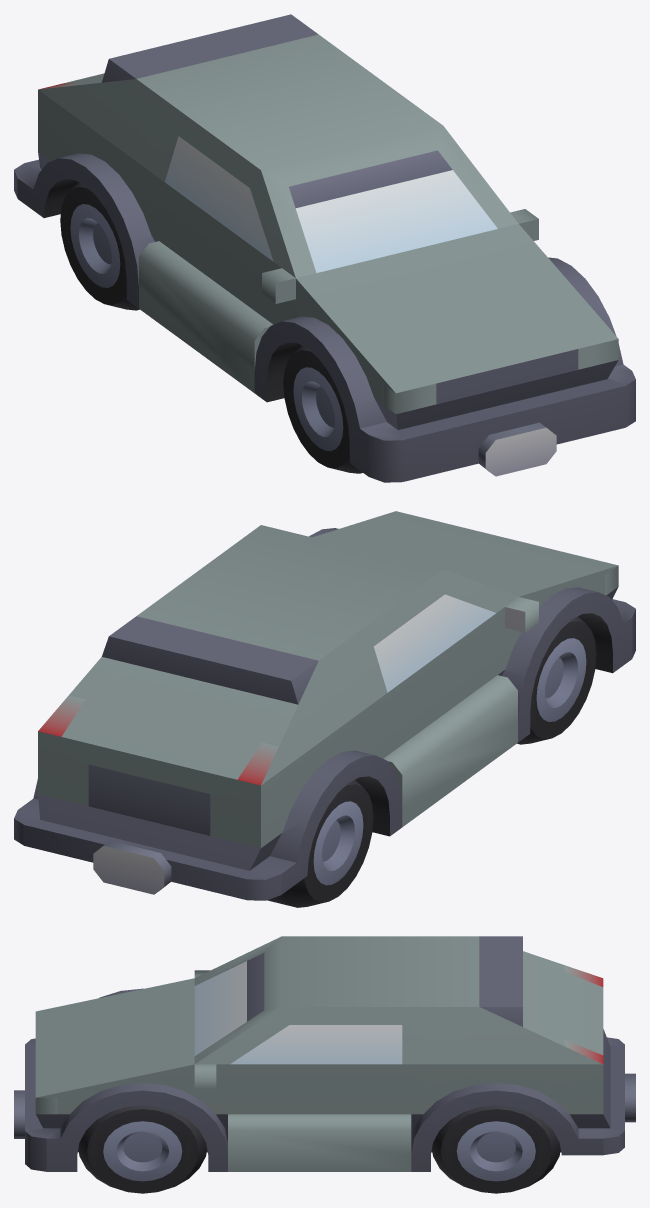
Rendered from prius.glb.
The picture shows the model from 3 angles, top to bottom: view 1: azimuth 30°, elevation 25°; view 2: azimuth 150°, elevation 25°; view 3: azimuth 270°, elevation 25°; orthographic projection. The views are drawn at different scales.
Visible parts, largest first — view 1: body, wheel-back-right, wheel-front-right; view 2: body, wheel-back-right, wheel-front-right; view 3: body, wheel-front-left, wheel-back-left.
Boxes of the visible parts, <box> form: body: <box>14,14,635,482</box>; wheel-back-right: <box>60,182,139,310</box>; wheel-front-right: <box>283,346,362,473</box>; body: <box>14,511,635,900</box>; wheel-back-right: <box>267,780,373,907</box>; wheel-front-right: <box>517,616,596,744</box>; body: <box>14,936,635,1171</box>; wheel-front-left: <box>78,1105,207,1193</box>; wheel-back-left: <box>432,1105,560,1193</box>.
Size of the model in its own units: 1.76 by 1.47 by 4.54.
